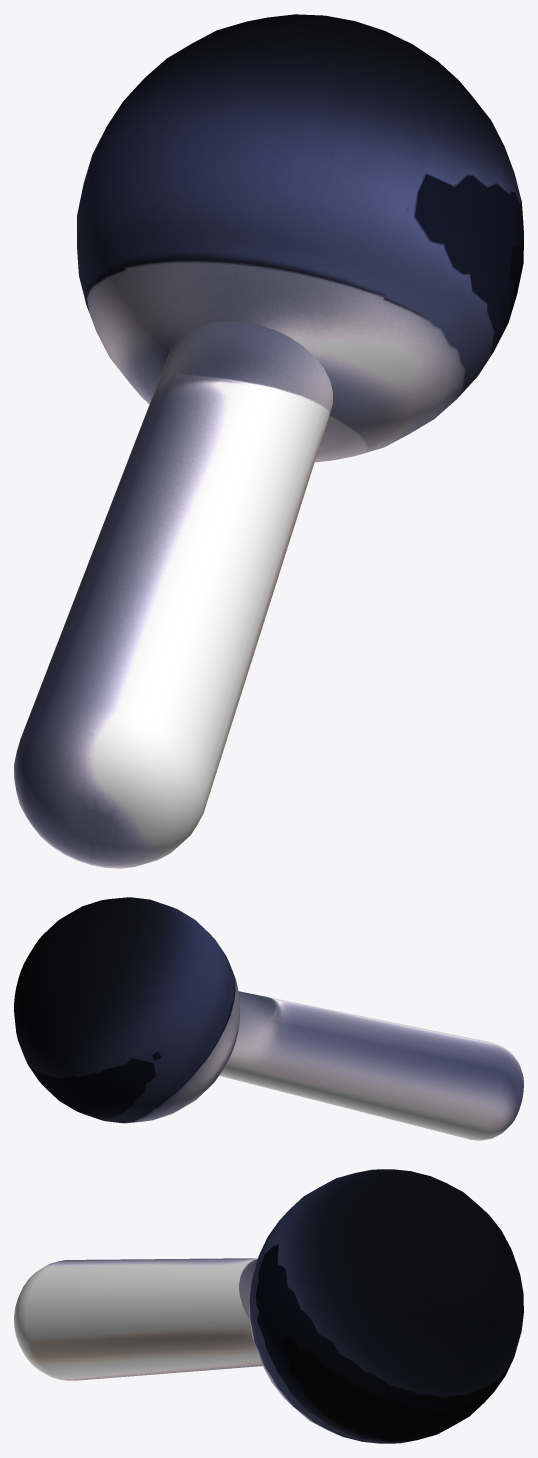
File: swich.glb
3 renders of one model, top to bottom at view 1: azimuth 30°, elevation 25°; view 2: azimuth 150°, elevation 25°; view 3: azimuth 270°, elevation 25°, orthographic. The views are drawn at different scales.
Visible parts, largest first — view 1: swich; view 2: swich; view 3: swich.
Part boxes in pixels (x1,y1,x2,y2): swich: (14,14,523,868); swich: (14,897,523,1140); swich: (14,1169,523,1443).
Size of the model in its own units: 0.02 by 0.0141 by 0.02.
1 material, 1 textured.
